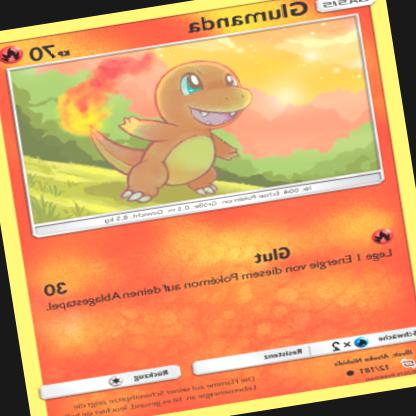Charmander: (75, 49, 266, 211)
